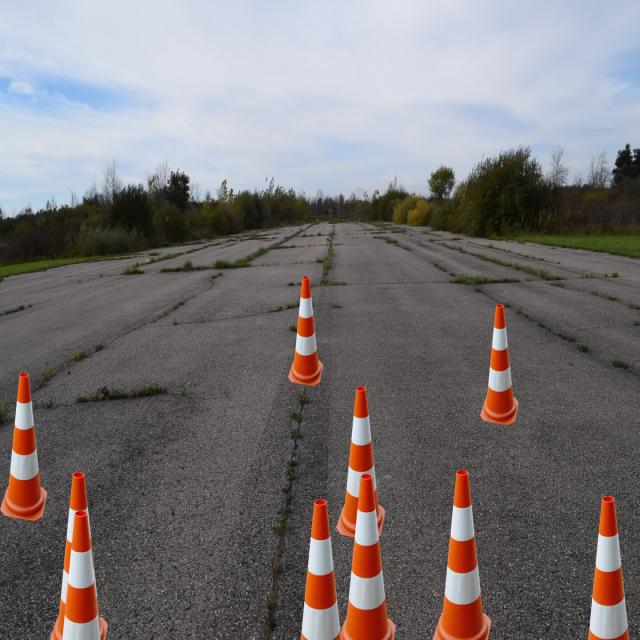large_orange_cone: (335, 473, 396, 640), (432, 469, 491, 640), (48, 472, 108, 640), (576, 496, 639, 640), (288, 499, 352, 640), (48, 510, 113, 640), (336, 386, 386, 541), (0, 372, 47, 521), (480, 304, 519, 426), (288, 276, 323, 386)
